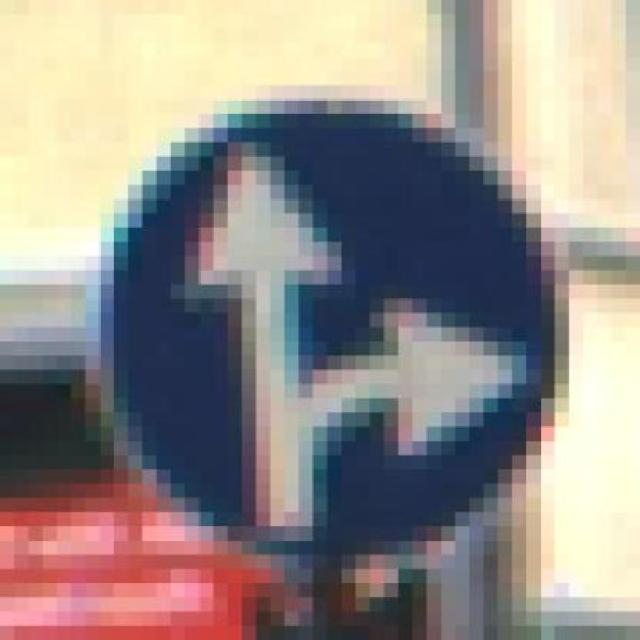Go Straight or Turn Right: (71, 85, 597, 598)
